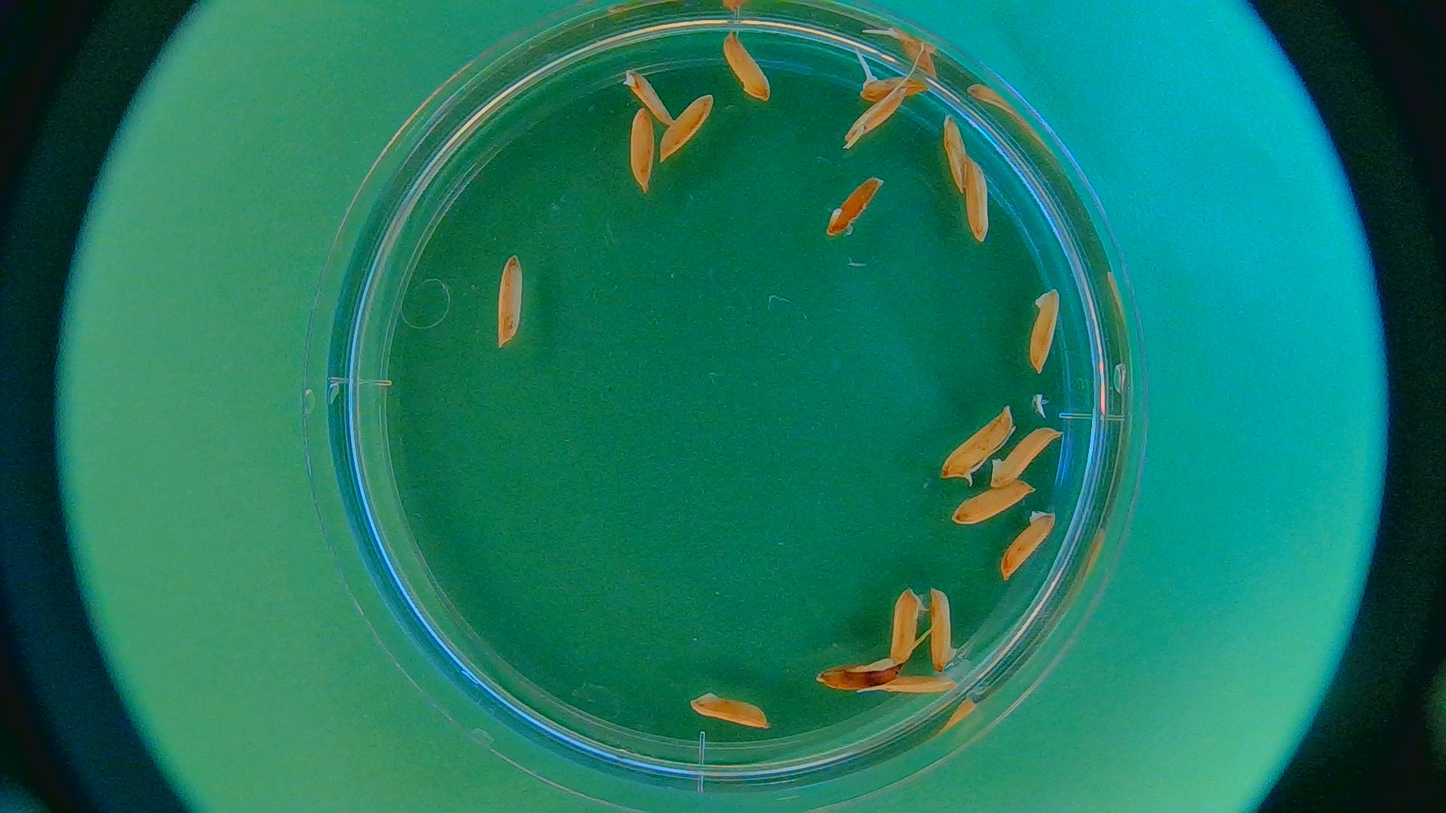no: (990, 427, 1060, 488), (1001, 510, 1056, 582), (950, 477, 1032, 522), (660, 93, 713, 161), (686, 687, 768, 728), (888, 587, 930, 665), (826, 177, 880, 236), (724, 30, 770, 99), (623, 69, 673, 125), (1026, 288, 1058, 375), (930, 586, 959, 671), (818, 662, 901, 690), (499, 254, 523, 349), (965, 159, 990, 244), (631, 106, 654, 190), (944, 118, 966, 195), (883, 675, 956, 696)
yes: (941, 404, 1013, 486), (844, 86, 905, 152), (858, 53, 929, 99)
